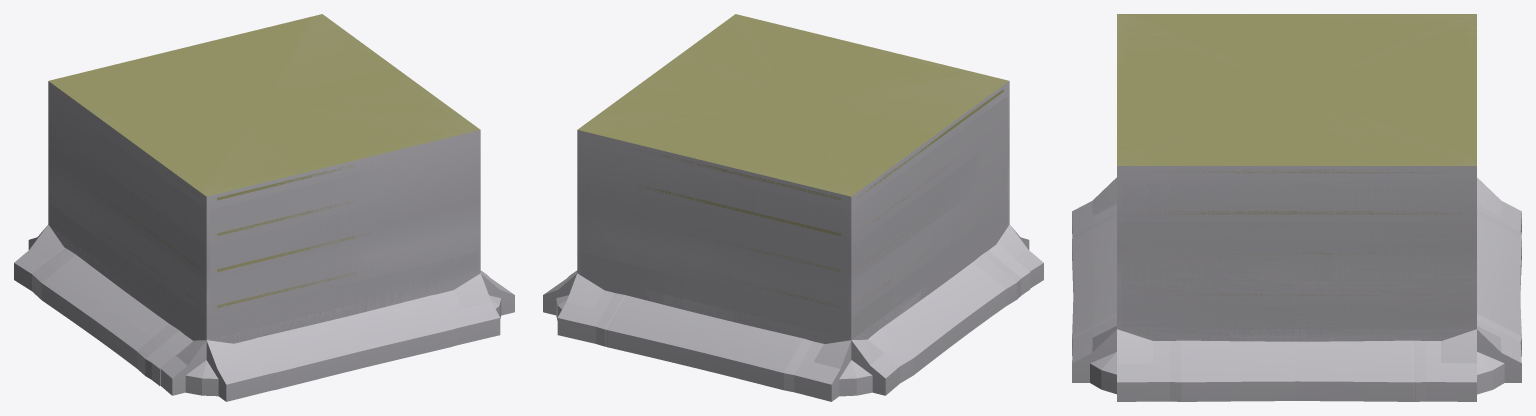
The model's file is pieces.glb.
3 views of the same model, side by side, from view 1: azimuth 30°, elevation 25°; view 2: azimuth 150°, elevation 25°; view 3: azimuth 270°, elevation 25° (orthographic). The views are drawn at different scales.
Visible parts, largest first — view 1: KIT_2_cape_36, KIT_1_stair_40, KIT_2_corner_5, KIT_2_edge_33, KIT_1_stair_39, KIT_2_edge_6, KIT_2_islet_12, KIT_2_cape_37, KIT_1_stair_31, KIT_0_corner_17, KIT_0_cape_32, KIT_2_corner_7 (+13 smaller); view 2: KIT_2_edge_9, KIT_1_stair_39, KIT_1_stair_38, KIT_2_edge_33, KIT_2_corner_5, KIT_0_cape_32, KIT_1_stair_31, KIT_2_edge_6, KIT_2_strait_34, KIT_2_islet_12, KIT_2_corner_7, KIT_0_edge_1 (+12 smaller); view 3: KIT_2_corner_5, KIT_1_stair_31, KIT_2_edge_33, KIT_2_cape_37, KIT_1_stair_40, KIT_1_stair_38, KIT_2_islet_12, KIT_0_corner_22, KIT_0_corner_2, KIT_2_edge_6, KIT_0_edge_8, KIT_2_corner_14 (+15 smaller).
Part boxes in pixels (<box>): KIT_2_cape_36: <box>80,25,480,335</box>; KIT_1_stair_40: <box>48,163,401,343</box>; KIT_2_corner_5: <box>75,14,462,339</box>; KIT_2_edge_33: <box>49,26,480,340</box>; KIT_1_stair_39: <box>85,120,340,340</box>; KIT_2_edge_6: <box>48,15,320,317</box>; KIT_2_islet_12: <box>93,28,454,185</box>; KIT_2_cape_37: <box>74,17,473,184</box>; KIT_1_stair_31: <box>210,65,452,343</box>; KIT_0_corner_17: <box>137,317,362,396</box>; KIT_0_cape_32: <box>42,255,192,385</box>; KIT_2_corner_7: <box>119,24,442,118</box>; KIT_2_edge_9: <box>577,98,948,342</box>; KIT_1_stair_39: <box>693,89,1007,343</box>; KIT_1_stair_38: <box>591,117,1007,343</box>; KIT_2_edge_33: <box>578,17,1009,343</box>; KIT_2_corner_5: <box>590,14,930,185</box>; KIT_0_cape_32: <box>567,244,1030,389</box>; KIT_1_stair_31: <box>580,20,915,339</box>; KIT_2_edge_6: <box>590,95,991,339</box>; KIT_2_strait_34: <box>581,28,1007,195</box>; KIT_2_islet_12: <box>651,25,975,184</box>; KIT_2_corner_7: <box>603,15,846,192</box>; KIT_0_edge_1: <box>557,273,928,401</box>; KIT_2_corner_5: <box>1117,14,1476,339</box>; KIT_1_stair_31: <box>1121,133,1471,341</box>; KIT_2_edge_33: <box>1117,14,1476,341</box>; KIT_2_cape_37: <box>1117,18,1475,340</box>; KIT_1_stair_40: <box>1121,21,1333,341</box>; KIT_1_stair_38: <box>1225,20,1472,341</box>; KIT_2_islet_12: <box>1126,18,1467,162</box>; KIT_0_corner_22: <box>1072,265,1297,401</box>; KIT_0_corner_2: <box>1297,313,1521,401</box>; KIT_2_edge_6: <box>1118,14,1476,164</box>; KIT_0_edge_8: <box>1117,329,1476,401</box>; KIT_2_corner_14: <box>1118,15,1471,164</box>.
Size of the model in its own units: 2.5 by 1.33 by 2.5.
